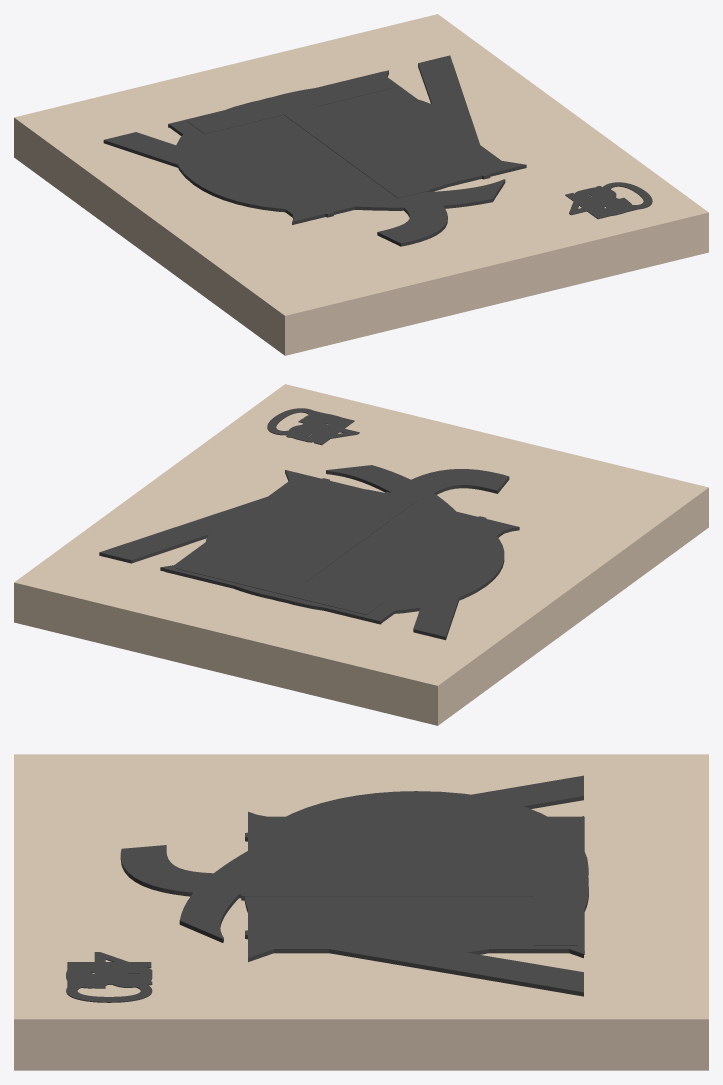
The model's file is Scrabble Letters.fbx.
3 renders of one model, top to bottom at view 1: azimuth 30°, elevation 25°; view 2: azimuth 150°, elevation 25°; view 3: azimuth 270°, elevation 25°, orthographic. The views are drawn at different scales.
Parts seen in each view (by area): view 1: Z, T, Q, M, W, U, H, J, X, A, R, K (+11 smaller); view 2: Z, T, W, Q, M, L, A, H, J, K, U, V (+11 smaller); view 3: Z, T, W, Q, M, H, X, U, L, O, J, P (+12 smaller).
Part boxes in pixels (x1=…): Z: x1=14, y1=14, x2=708, y2=355; T: x1=187, y1=75, x2=618, y2=213; Q: x1=175, y1=100, x2=652, y2=219; M: x1=169, y1=72, x2=627, y2=217; W: x1=103, y1=55, x2=611, y2=217; U: x1=184, y1=73, x2=622, y2=212; H: x1=175, y1=80, x2=492, y2=218; J: x1=280, y1=115, x2=632, y2=246; X: x1=168, y1=70, x2=526, y2=224; A: x1=268, y1=95, x2=515, y2=220; R: x1=197, y1=100, x2=617, y2=214; K: x1=271, y1=82, x2=628, y2=218; Z: x1=14, y1=384, x2=708, y2=725; T: x1=176, y1=414, x2=418, y2=614; W: x1=99, y1=417, x2=486, y2=640; Q: x1=242, y1=408, x2=504, y2=613; M: x1=168, y1=414, x2=503, y2=624; L: x1=299, y1=416, x2=472, y2=611; A: x1=269, y1=473, x2=511, y2=586; H: x1=187, y1=483, x2=495, y2=623; J: x1=288, y1=413, x2=509, y2=583; K: x1=223, y1=414, x2=507, y2=619; U: x1=179, y1=414, x2=461, y2=617; V: x1=165, y1=412, x2=394, y2=620; Z: x1=14, y1=754, x2=708, y2=1070; T: x1=67, y1=826, x2=577, y2=977; W: x1=68, y1=775, x2=583, y2=996; Q: x1=66, y1=791, x2=588, y2=1002; M: x1=67, y1=816, x2=584, y2=984; H: x1=248, y1=817, x2=584, y2=937; X: x1=248, y1=811, x2=583, y2=961; U: x1=67, y1=826, x2=584, y2=978; L: x1=77, y1=840, x2=584, y2=978; O: x1=68, y1=803, x2=588, y2=978; J: x1=66, y1=845, x2=241, y2=988; P: x1=272, y1=855, x2=584, y2=944.
Size of the model in its own units: 22.4 by 2.21 by 24.82.
